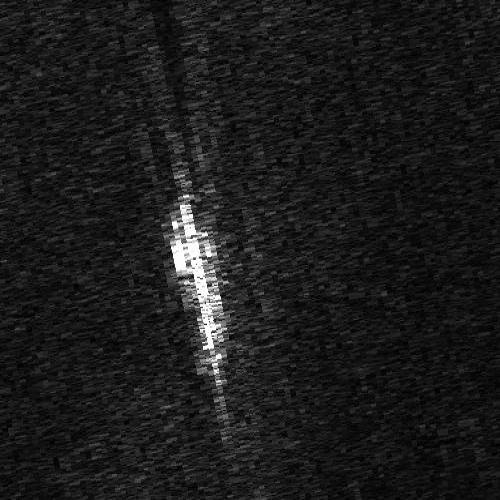ship: (171, 197, 228, 391)
